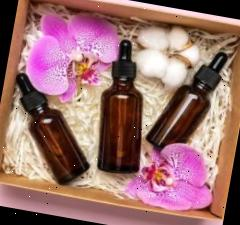glass: (0, 16, 228, 207)
